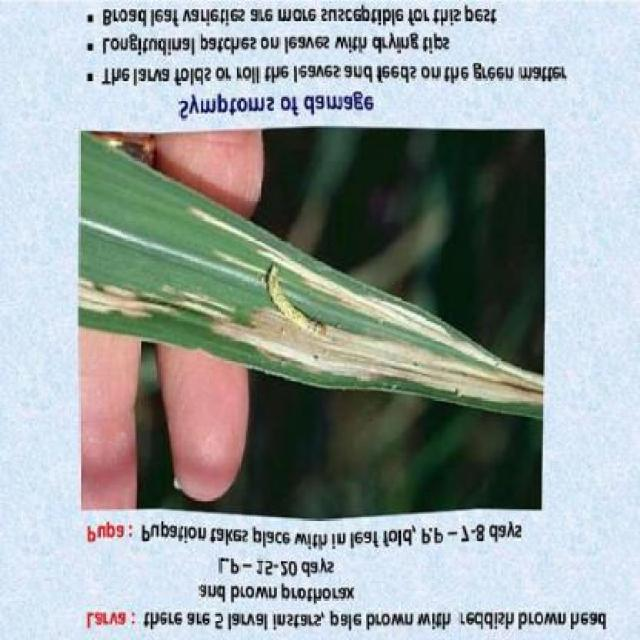leaf-folder: (262, 254, 340, 346)
